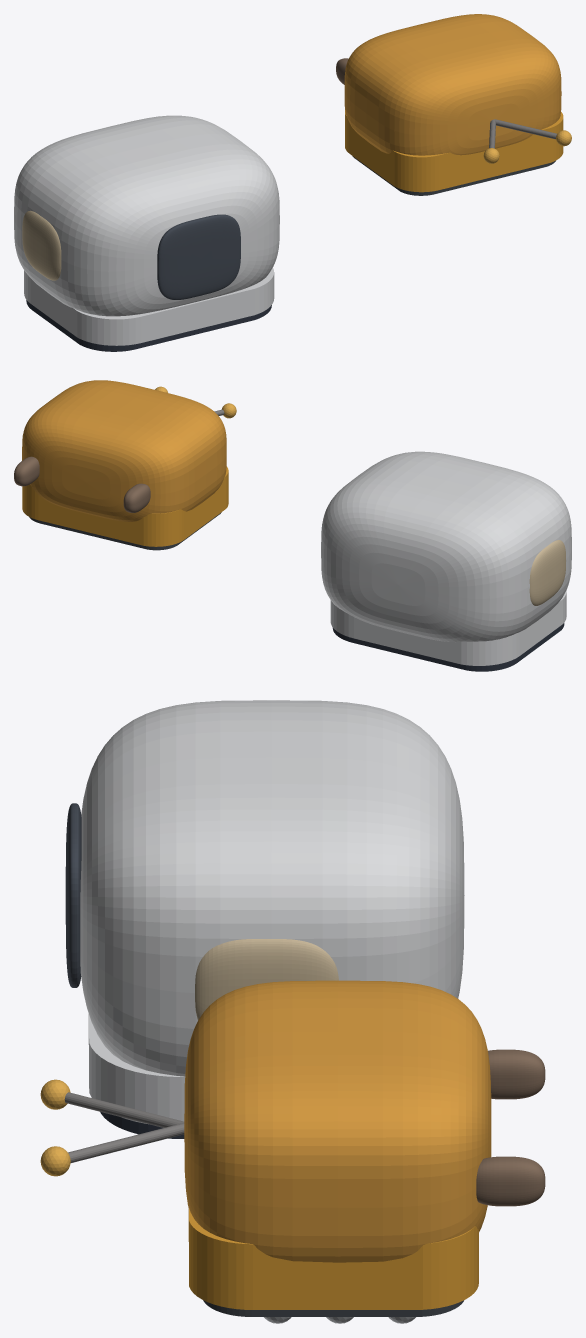
The model's file is Gigabajt_model_3D_12_ORIGINAL.glb.
3 views of the same model, one above another, from view 1: azimuth 30°, elevation 25°; view 2: azimuth 150°, elevation 25°; view 3: azimuth 270°, elevation 25° (orthographic). The views are drawn at different scales.
Parts seen in each view (by area): view 1: Biala_obudowa_glowy, TV_pomaranczowa_obudowa, Glowica_biala_zaokraglone_obramowanie, TV_pomaranczowy_zaokraglony_kolnierz, Czarny_panel_gorny, Zloty_panel_lewe, Glowica_czarna_zintegrowana_ramka, TV_czarna_zintegrowana_ramka; view 2: Biala_obudowa_glowy, TV_pomaranczowa_obudowa, Glowica_biala_zaokraglone_obramowanie, TV_pomaranczowy_zaokraglony_kolnierz, Zloty_panel_lewe, Glowica_czarna_zintegrowana_ramka, Noga_TV_0, Noga_TV_1, TV_czarna_zintegrowana_ramka; view 3: Biala_obudowa_glowy, TV_pomaranczowa_obudowa, TV_pomaranczowy_zaokraglony_kolnierz, Zloty_panel_prawe, Glowica_biala_zaokraglone_obramowanie, Noga_TV_1, Czarny_panel_gorny, Noga_TV_0, TV_czarna_zintegrowana_ramka, Antena_1, Antena_0.
Part boxes in pixels (<box>): Biala_obudowa_glowy: <box>14,115,279,316</box>; TV_pomaranczowa_obudowa: <box>344,14,561,155</box>; Glowica_biala_zaokraglone_obramowanie: <box>24,267,274,345</box>; TV_pomaranczowy_zaokraglony_kolnierz: <box>345,110,563,192</box>; Czarny_panel_gorny: <box>157,214,240,299</box>; Zloty_panel_lewe: <box>22,210,61,280</box>; Glowica_czarna_zintegrowana_ramka: <box>26,300,271,351</box>; TV_czarna_zintegrowana_ramka: <box>352,156,555,195</box>; Biala_obudowa_glowy: <box>321,451,571,642</box>; TV_pomaranczowa_obudowa: <box>22,380,226,521</box>; Glowica_biala_zaokraglone_obramowanie: <box>330,591,566,665</box>; TV_pomaranczowy_zaokraglony_kolnierz: <box>22,466,228,546</box>; Zloty_panel_lewe: <box>529,540,565,605</box>; Glowica_czarna_zintegrowana_ramka: <box>332,623,564,671</box>; Noga_TV_0: <box>123,483,150,512</box>; Noga_TV_1: <box>14,456,39,486</box>; TV_czarna_zintegrowana_ramka: <box>29,512,221,550</box>; Biala_obudowa_glowy: <box>80,700,464,1076</box>; TV_pomaranczowa_obudowa: <box>184,980,491,1262</box>; TV_pomaranczowy_zaokraglony_kolnierz: <box>188,1208,478,1309</box>; Zloty_panel_prawe: <box>195,939,338,1019</box>; Glowica_biala_zaokraglone_obramowanie: <box>88,1014,185,1124</box>; Noga_TV_1: <box>476,1156,545,1206</box>; Czarny_panel_gorny: <box>65,803,81,987</box>; Noga_TV_0: <box>488,1049,545,1099</box>; TV_czarna_zintegrowana_ramka: <box>203,1300,463,1316</box>; Antena_1: <box>68,1123,184,1162</box>; Antena_0: <box>64,1092,184,1127</box>.
Bounding box in the file's own units: 5.47 × 1.76 × 2.43.
